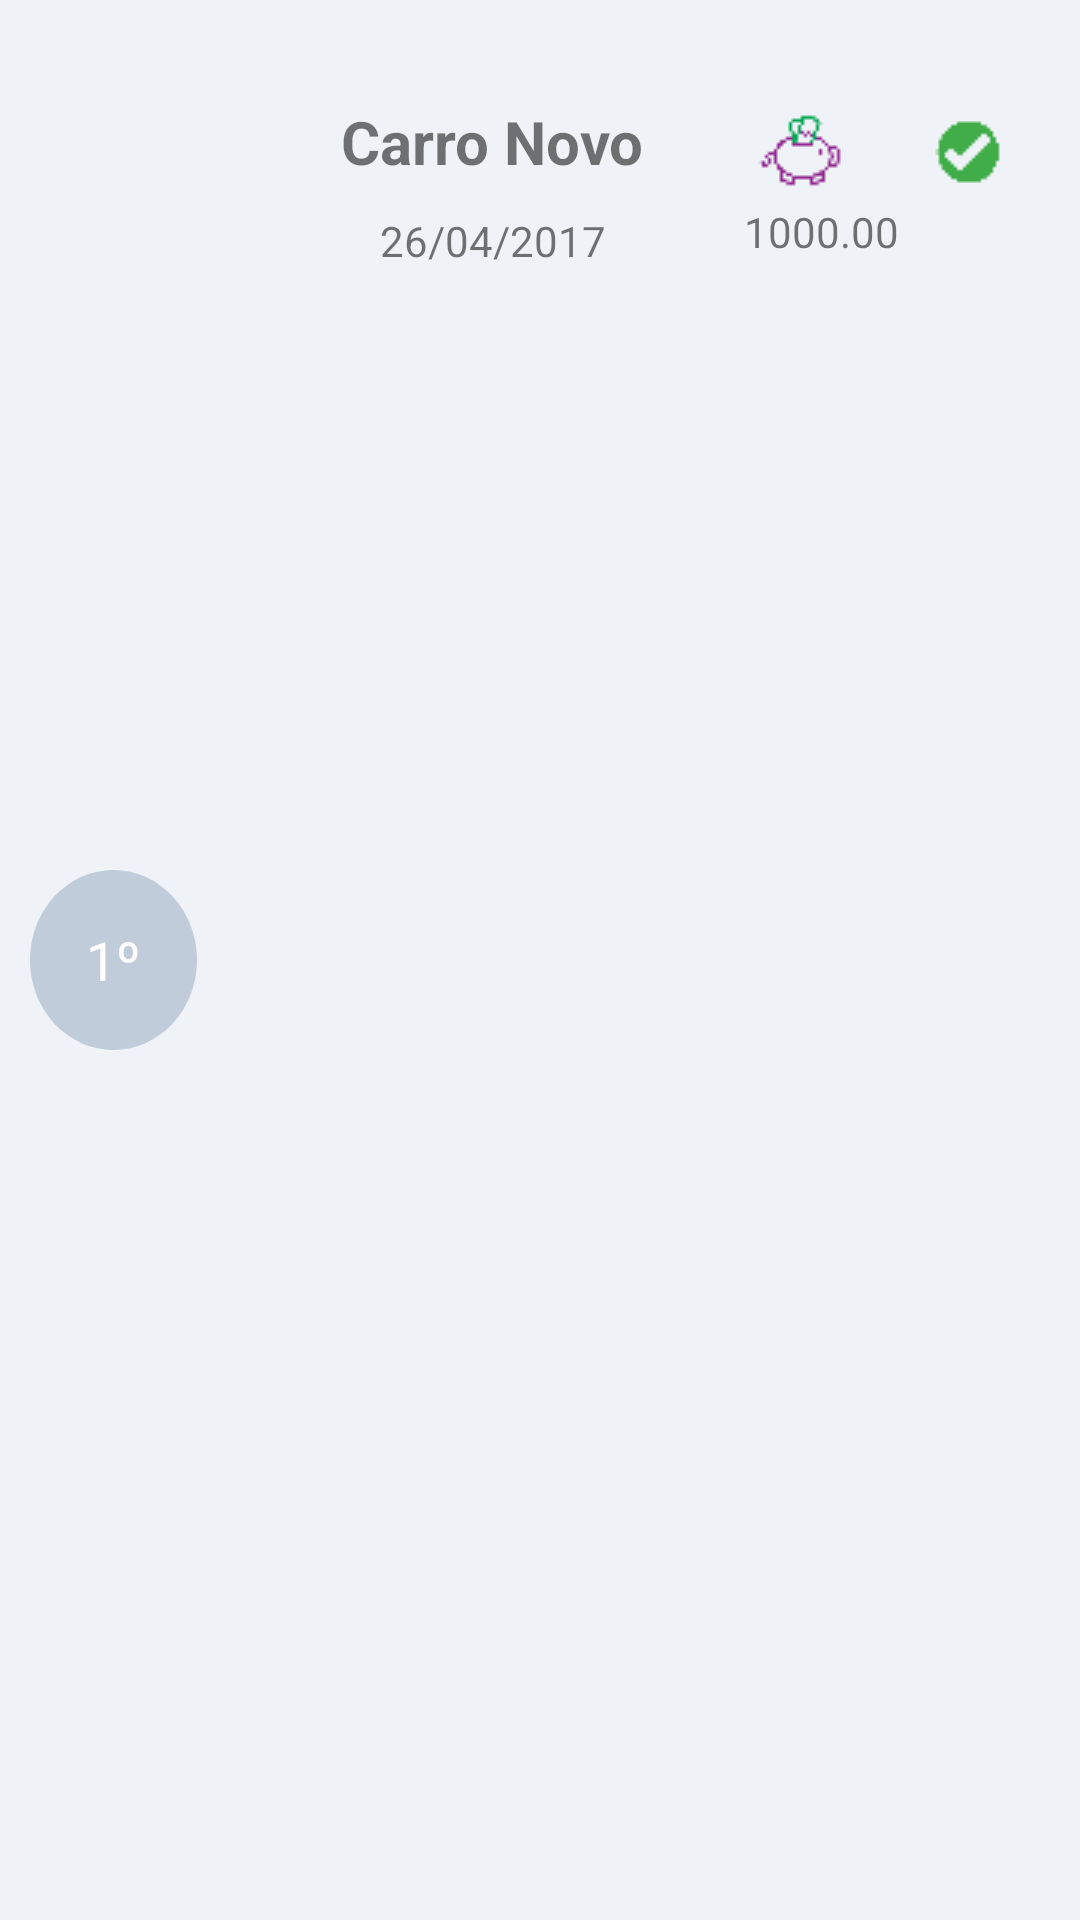

Screen size 1080 x 1920. Icon name, then its center in pixels as point (x, y):
porco: point (800, 150)
